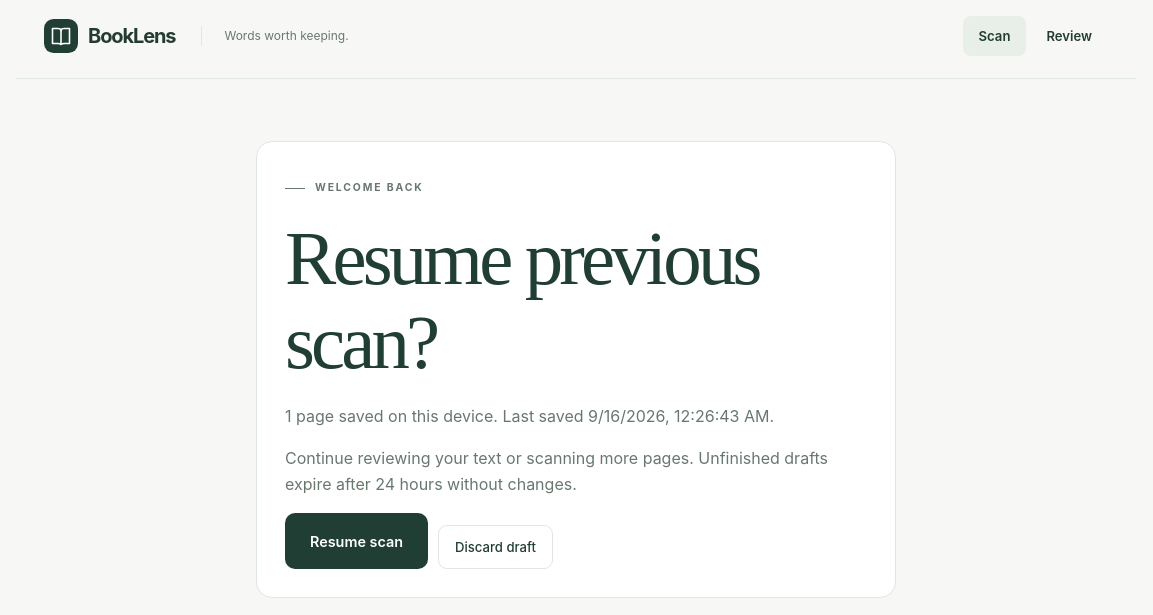
offers recovery before mounting a screen: Discard draft
This screenshot has width=1153, height=615.
Expected: the text "Document screen" is not shown
Step 1. Click the button "Discard draft" → (495, 547), box [438,525,553,569]
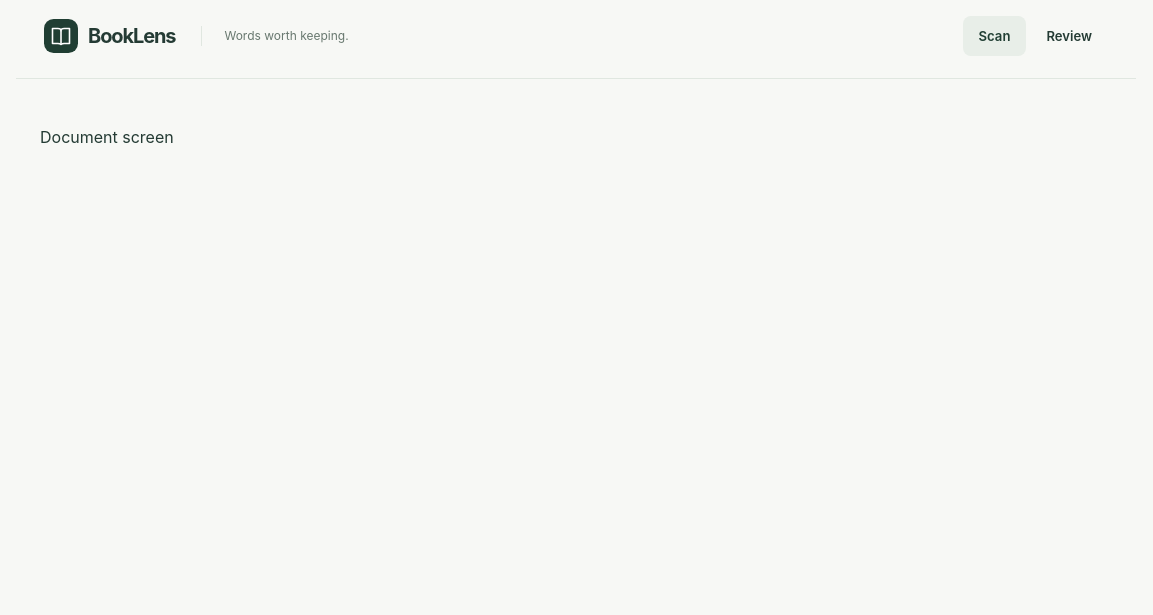
Now the text "Resume previous scan?" is gone
